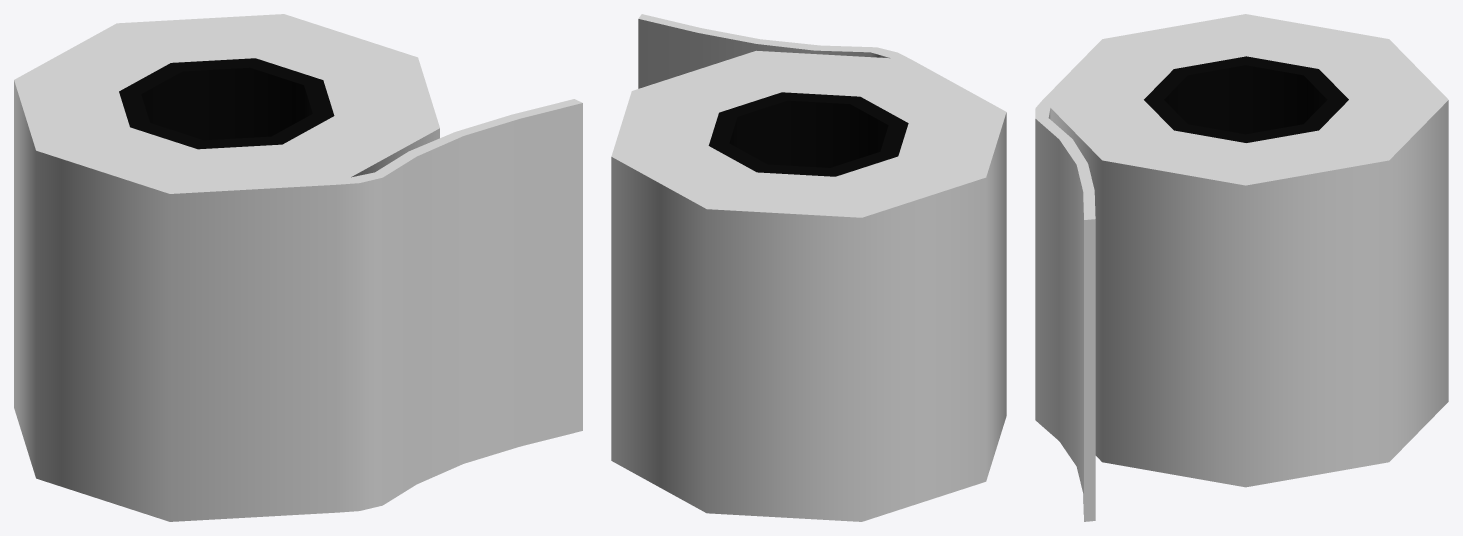
The model's file is Prop_ToiletPaper.fbx.
3 renders of one model, left to right at view 1: azimuth 30°, elevation 25°; view 2: azimuth 150°, elevation 25°; view 3: azimuth 270°, elevation 25°, orthographic. The views are drawn at different scales.
Parts seen in each view (by area): view 1: Prop_ToiletPaper; view 2: Prop_ToiletPaper; view 3: Prop_ToiletPaper.
Part boxes in pixels (<box>): Prop_ToiletPaper: <box>14,14,582,521</box>; Prop_ToiletPaper: <box>611,14,1006,521</box>; Prop_ToiletPaper: <box>1035,14,1448,521</box>.
Bounding box in the file's own units: 33.45 × 22.83 × 28.35.
